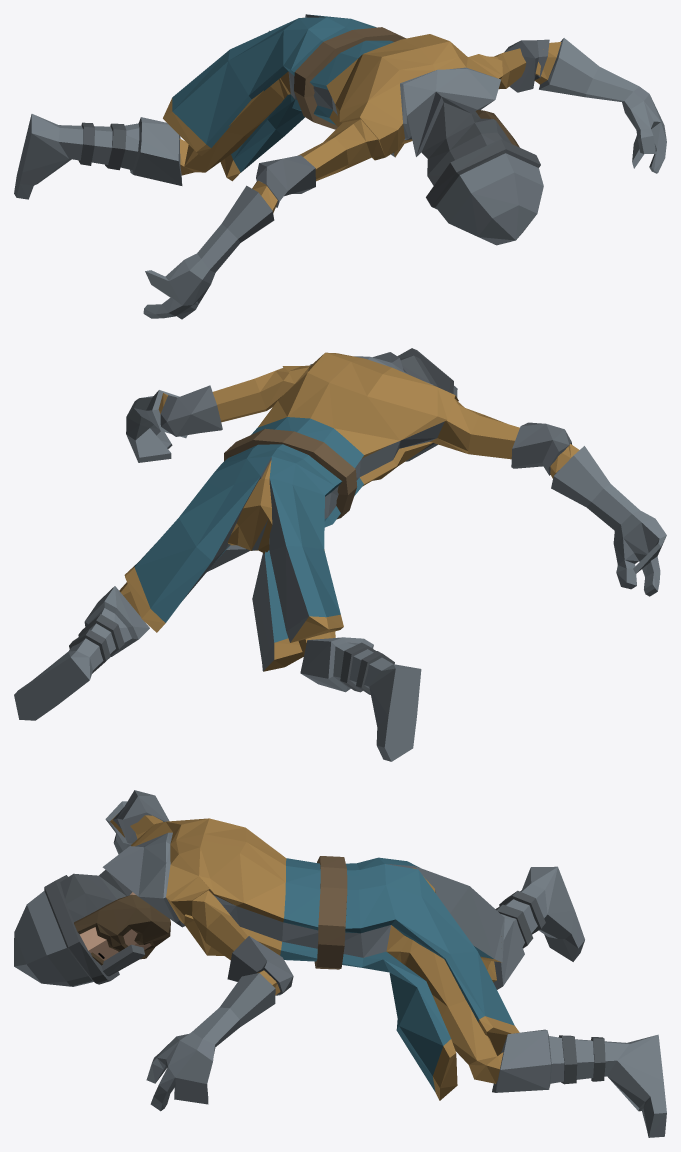
Rendered from kingdom_SM_Prop_Dead_Soldier_03.gltf.
3 views of the same model, one above another, from view 1: azimuth 30°, elevation 25°; view 2: azimuth 150°, elevation 25°; view 3: azimuth 270°, elevation 25° (orthographic). The views are drawn at different scales.
Parts seen in each view (by area): view 1: SM_Prop_Dead_Soldier_03; view 2: SM_Prop_Dead_Soldier_03; view 3: SM_Prop_Dead_Soldier_03.
Boxes of the visible parts, x1,y1,x2,y2 form: SM_Prop_Dead_Soldier_03: (14,14,666,319); SM_Prop_Dead_Soldier_03: (14,348,666,761); SM_Prop_Dead_Soldier_03: (14,790,666,1137).
Bounding box in the file's own units: 1.58 × 0.6746 × 1.64.
Materials: 1 (1 with a texture image).
